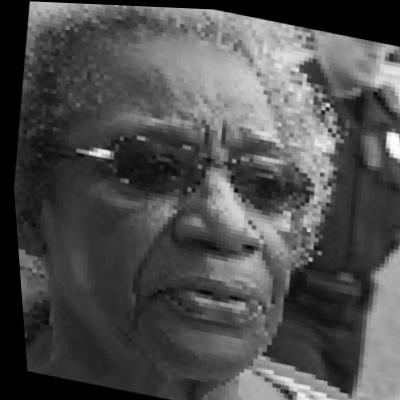sad: (24, 7, 330, 391)
